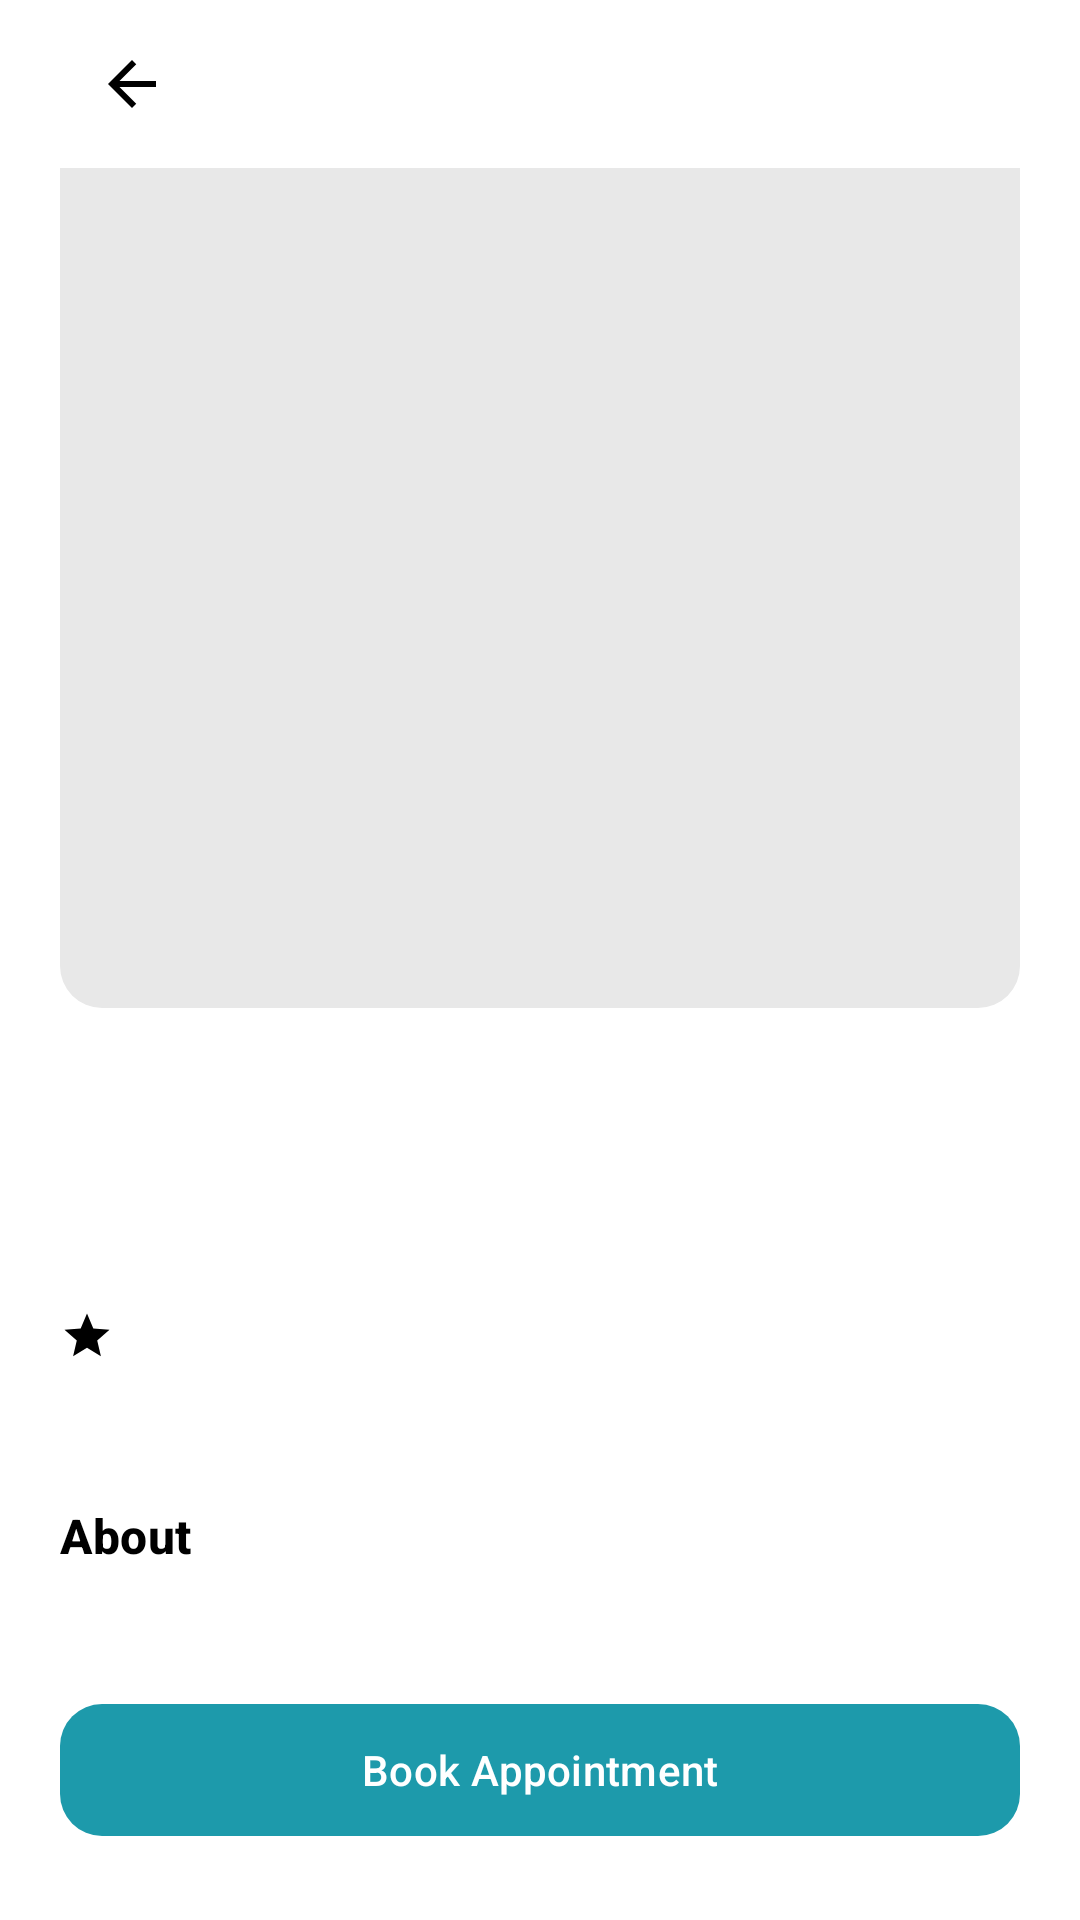

Screen size 1080x1920. Icon name, then its center in pixels as (x,y):
Back: (132,84)
star: (87,1335)
